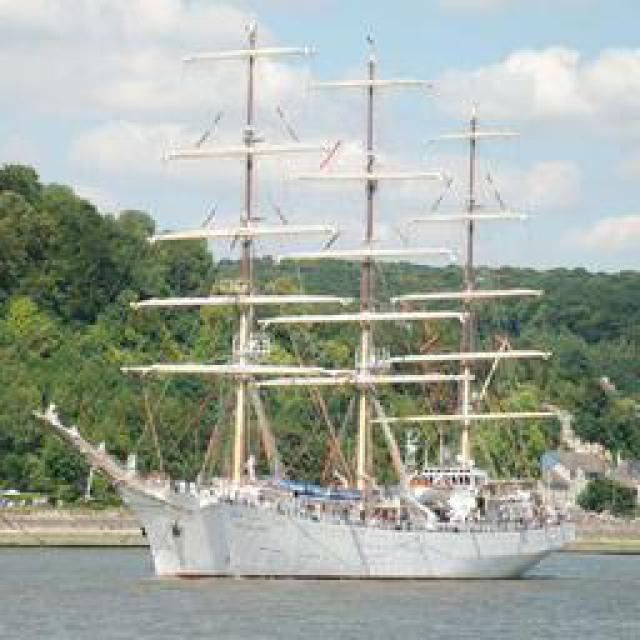Ship: (96, 33, 594, 591)
